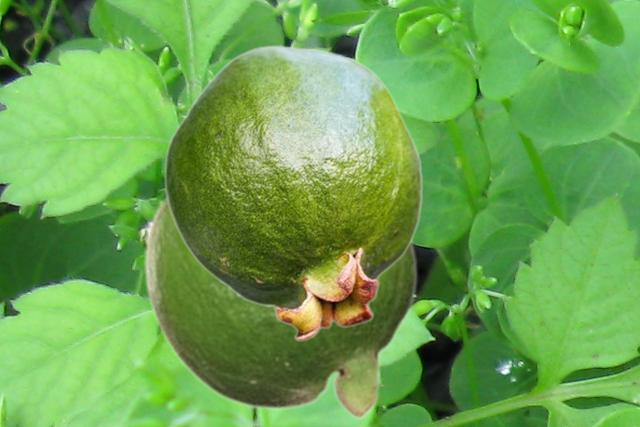guava: (163, 45, 422, 341), (142, 195, 417, 420)
